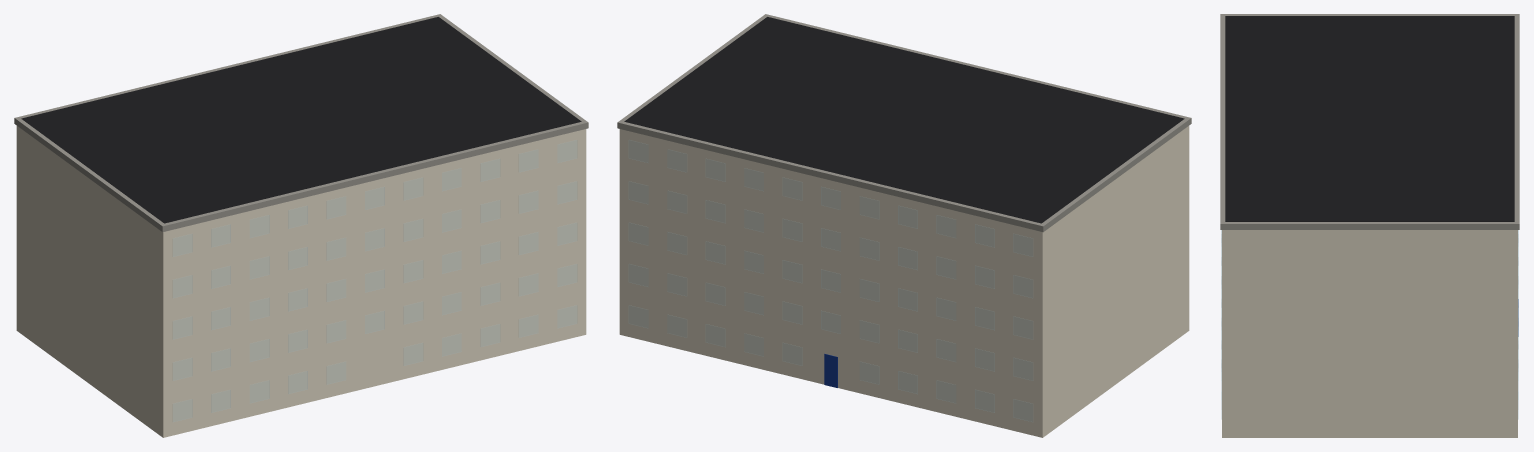
The model's file is context.office_5.glb.
The picture shows the model from 3 angles, left to right: view 1: azimuth 30°, elevation 25°; view 2: azimuth 150°, elevation 25°; view 3: azimuth 270°, elevation 25°; orthographic projection.
Visible parts, largest first — view 1: walls__render, roof__roof_felt, openings__glass, roof__concrete; view 2: walls__render, roof__roof_felt, openings__glass, roof__concrete; view 3: walls__render, roof__roof_felt, roof__concrete, openings__glass.
Part boxes in pixels (x1,y1,x2,y2): walls__render: (16,126,586,437); roof__roof_felt: (21,17,581,223); openings__glass: (173,140,576,421); roof__concrete: (14,14,588,232); walls__render: (619,126,1189,437); roof__roof_felt: (624,17,1184,223); openings__glass: (629,140,1032,421); roof__concrete: (617,14,1191,232); walls__render: (1222,230,1517,437); roof__roof_felt: (1225,16,1514,221); roof__concrete: (1220,14,1519,229); openings__glass: (1221,230,1518,419).
Bounding box in the file's own units: 30.2 × 14.41 × 18.2.
